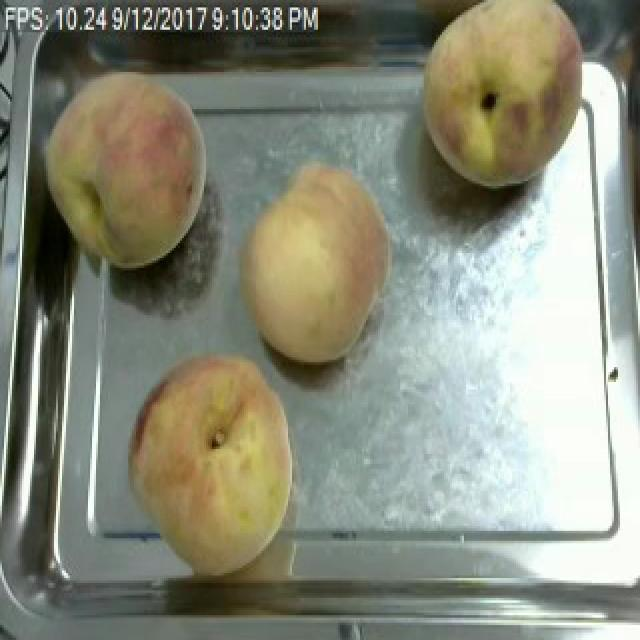Fruit: (118, 340, 302, 580), (28, 62, 218, 280), (410, 0, 606, 201), (230, 153, 400, 370)
